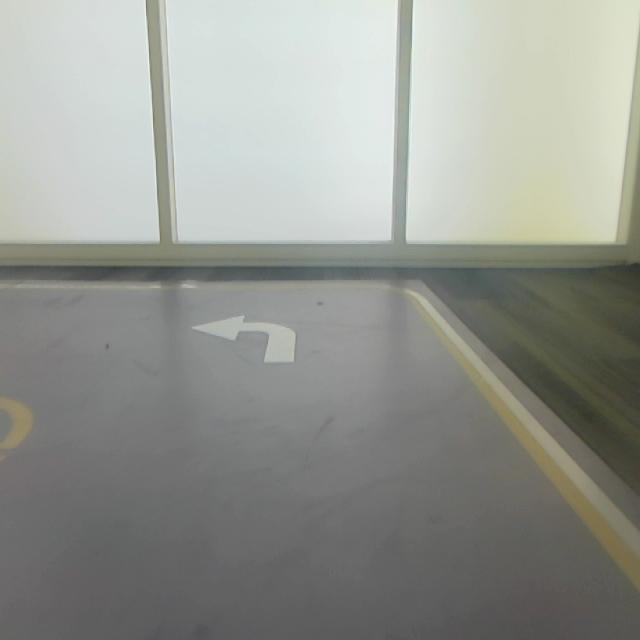right_lane: (415, 296, 639, 593), (0, 400, 39, 465)
